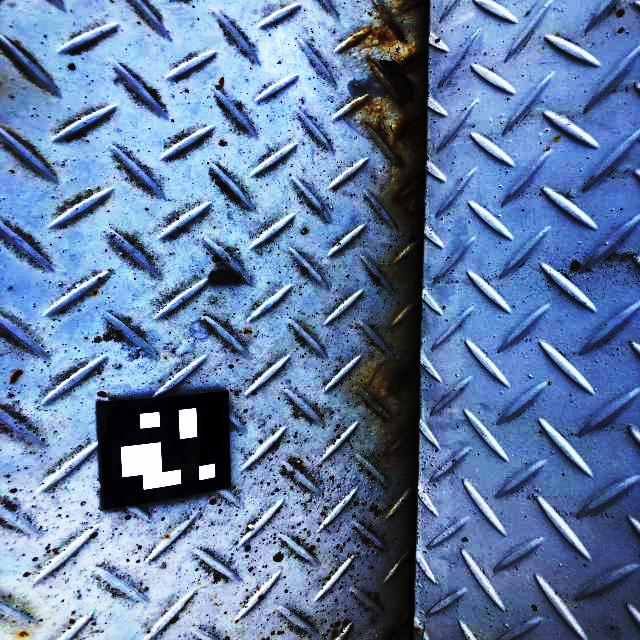Corrosion: (377, 47, 427, 107), (398, 109, 426, 149), (393, 353, 420, 391), (388, 619, 413, 640), (388, 21, 404, 41), (405, 0, 430, 8)
